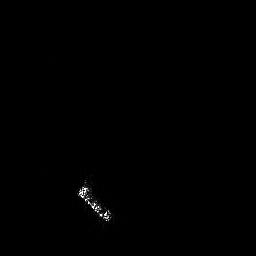ship: (73, 176, 114, 223)
